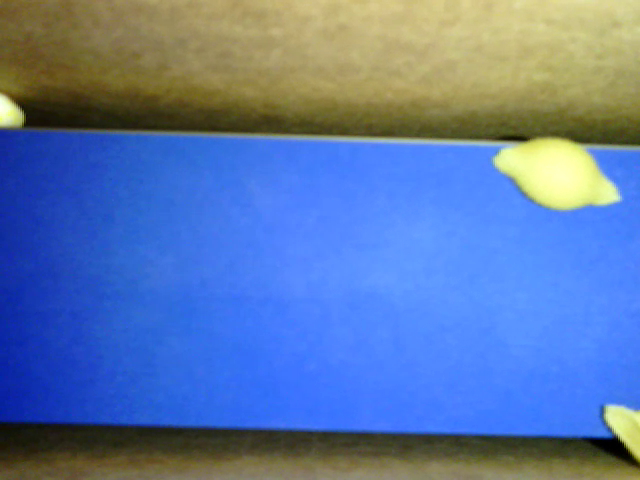shell: (491, 134, 621, 210)
